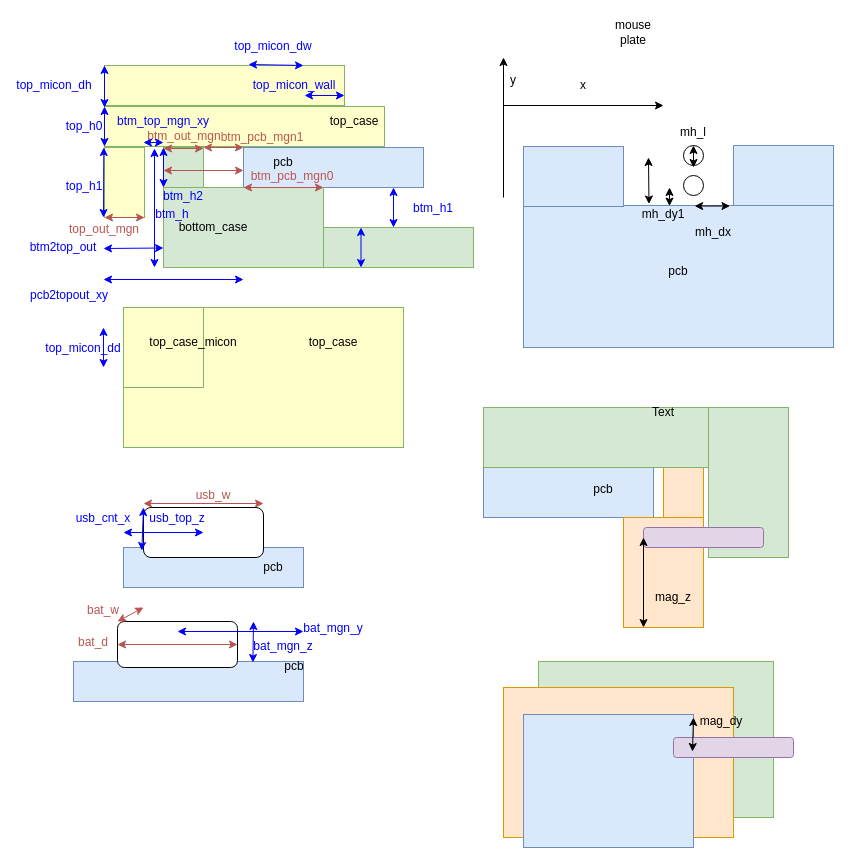
The diagram is 851 pixels wide and 865 high, and some of its shapes have lost their labels. The box of each missing label's shape, as (x1, y1, x2, y2) in pixels:
btm_h0: (322, 226, 474, 268)
mh_dy2: (522, 146, 624, 206)
pcb2btm_out: (162, 146, 204, 188)
